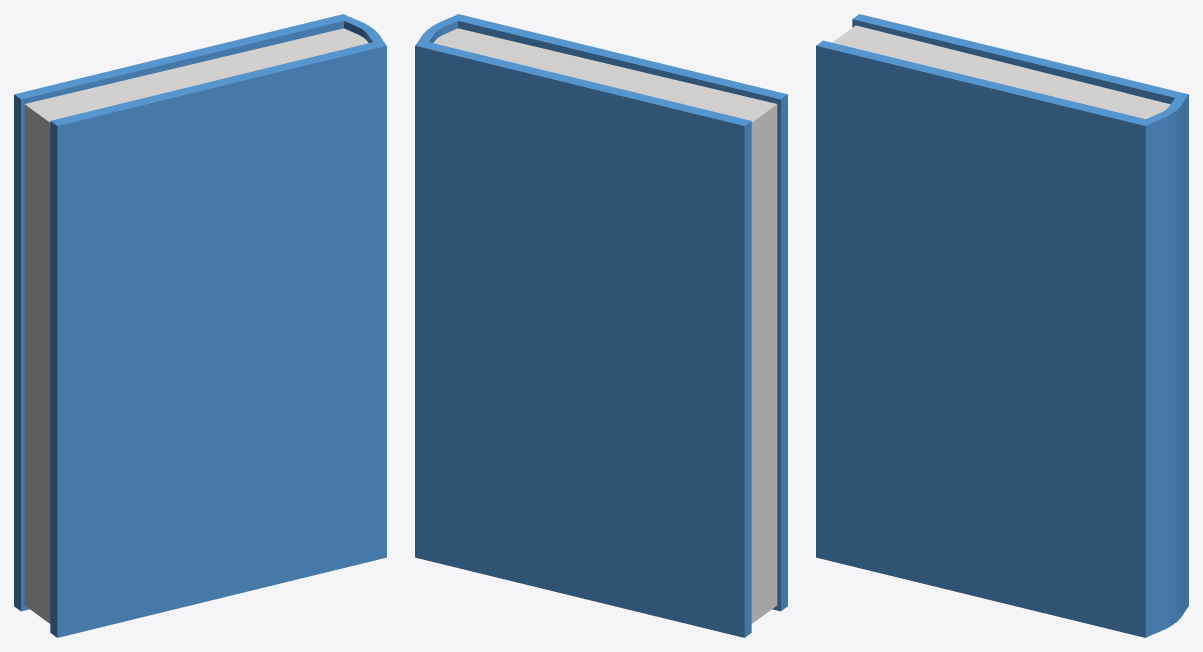
File: Book_3.fbx
The picture shows the model from 3 angles, left to right: view 1: azimuth 30°, elevation 25°; view 2: azimuth 150°, elevation 25°; view 3: azimuth 330°, elevation 25°; orthographic projection.
Visible parts, largest first — view 1: Book_3; view 2: Book_3; view 3: Book_3.
Boxes of the visible parts, x1=… form: Book_3: x1=14, y1=14, x2=386, y2=637; Book_3: x1=415, y1=14, x2=787, y2=637; Book_3: x1=816, y1=14, x2=1188, y2=637.
Bounding box in the file's own units: 57.03 × 82.87 × 12.71.
